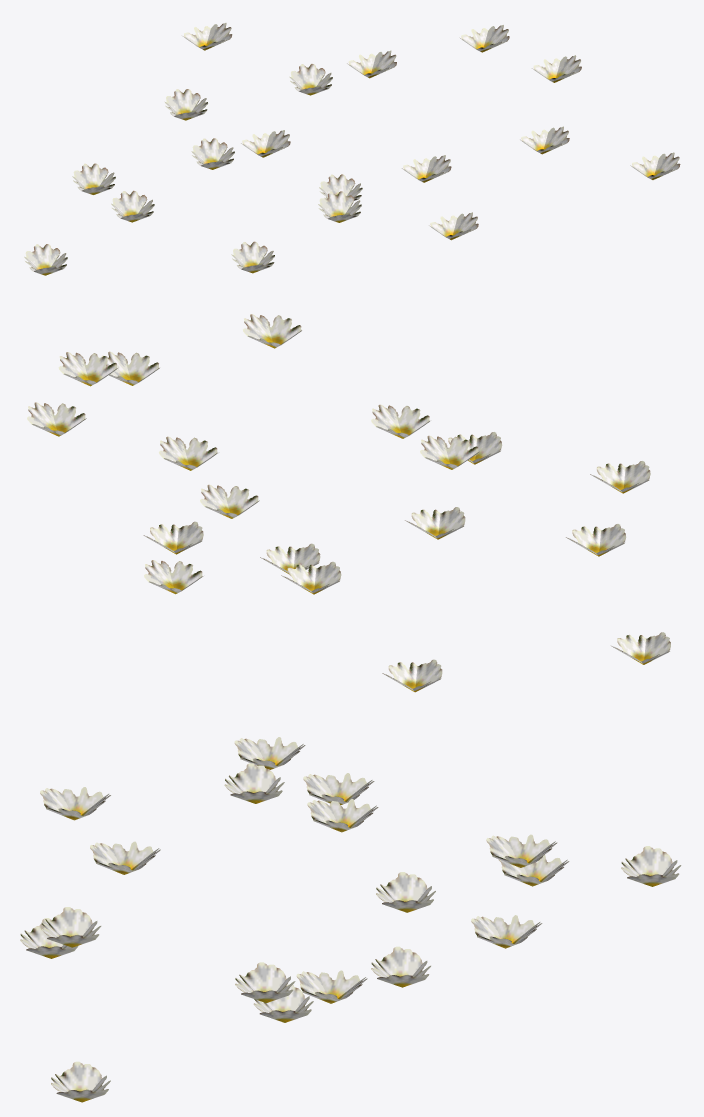
Rendered from xiaohua3.fbx.
3 renders of one model, top to bottom at view 1: azimuth 30°, elevation 25°; view 2: azimuth 150°, elevation 25°; view 3: azimuth 270°, elevation 25°, orthographic. The views are drawn at different scales.
Parts seen in each view (by area): view 1: xiaohua3; view 2: xiaohua3; view 3: xiaohua3.
Boxes of the visible parts, x1,y1,x2,y2 form: xiaohua3: [24, 23, 680, 275]; xiaohua3: [27, 314, 670, 692]; xiaohua3: [20, 737, 681, 1102].
Bounding box in the file's own units: 343 × 65.99 × 255.
Materials: 1 (1 with a texture image).
